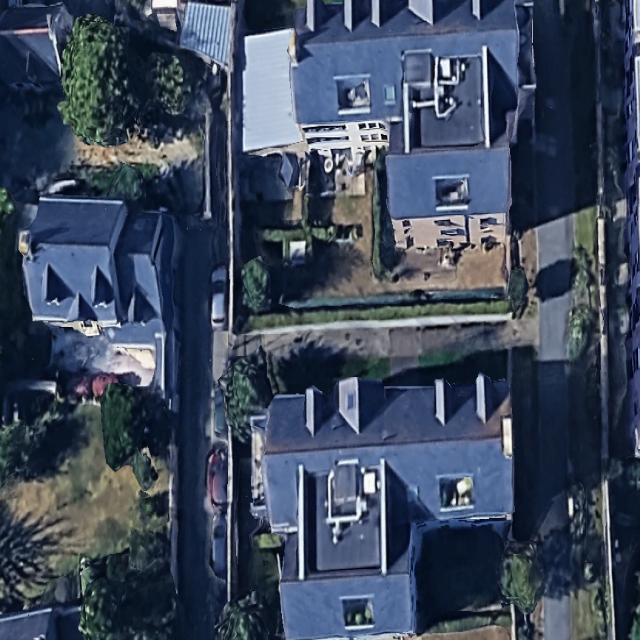immeuble: (244, 0, 535, 259), (245, 370, 522, 640), (16, 190, 183, 403), (0, 3, 73, 90)
